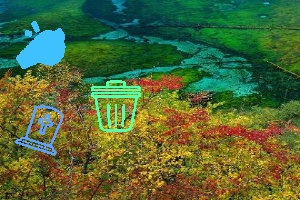垃圾桶: (91, 80, 141, 134)
墓碑: (17, 105, 65, 158)
玩具头: (15, 21, 67, 67)
